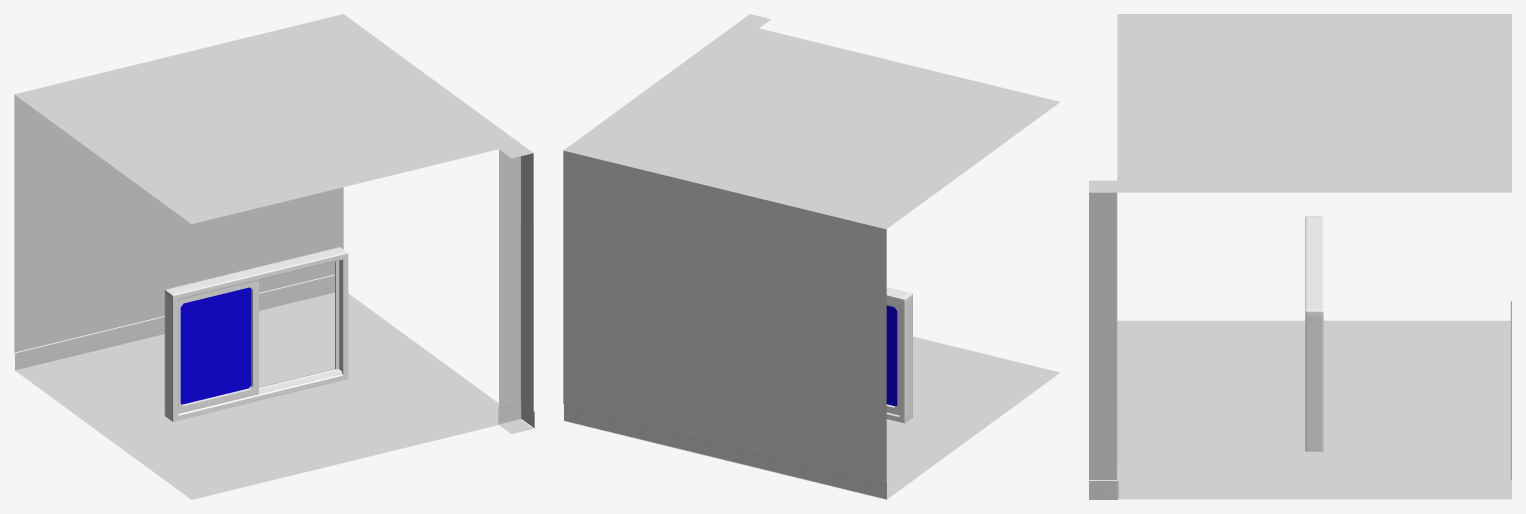
File: ConcreteBlockBuilding.fbx
The picture shows the model from 3 angles, left to right: view 1: azimuth 30°, elevation 25°; view 2: azimuth 150°, elevation 25°; view 3: azimuth 270°, elevation 25°; orthographic projection. The views are drawn at different scales.
Visible parts, largest first — view 1: Floor, Roof, Wall, RoofH, DoorWay, WallC, Door, DoorFrame, WallH, RoofSL, FloorSL, WallS (+1 smaller); view 2: Wall, Roof, Floor, RoofH, WallH, DoorWay, WallS, RoofSL, DoorFrame, Door; view 3: Roof, Floor, FloorH, RoofH, WallC, RoofSL, FloorSL, DoorFrame.
Boxes of the visible parts, <box> form: Floor: <box>14,295,498,499</box>; Roof: <box>14,19,498,223</box>; Wall: <box>14,95,322,370</box>; RoofH: <box>169,20,497,186</box>; DoorWay: <box>14,95,322,369</box>; WallC: <box>498,149,534,428</box>; Door: <box>178,280,258,413</box>; DoorFrame: <box>164,247,348,421</box>; WallH: <box>168,193,322,308</box>; RoofSL: <box>322,14,520,148</box>; FloorSL: <box>322,292,520,424</box>; WallS: <box>321,187,343,295</box>; Wall: <box>585,156,886,499</box>; Roof: <box>585,28,1059,229</box>; Floor: <box>585,336,1060,499</box>; RoofH: <box>586,28,907,190</box>; WallH: <box>585,158,736,462</box>; DoorWay: <box>585,156,886,498</box>; WallS: <box>563,150,585,425</box>; RoofSL: <box>563,23,758,155</box>; DoorFrame: <box>886,287,912,423</box>; Door: <box>886,300,899,415</box>; Roof: <box>1117,14,1511,180</box>; Floor: <box>1117,320,1511,487</box>; FloorH: <box>1117,404,1511,487</box>; RoofH: <box>1117,97,1511,180</box>; WallC: <box>1089,192,1118,499</box>; RoofSL: <box>1117,180,1511,192</box>; FloorSL: <box>1118,487,1511,499</box>; DoorFrame: <box>1305,216,1323,451</box>.
Size of what is drawn, in the model's own units: 602 by 490 by 600.
